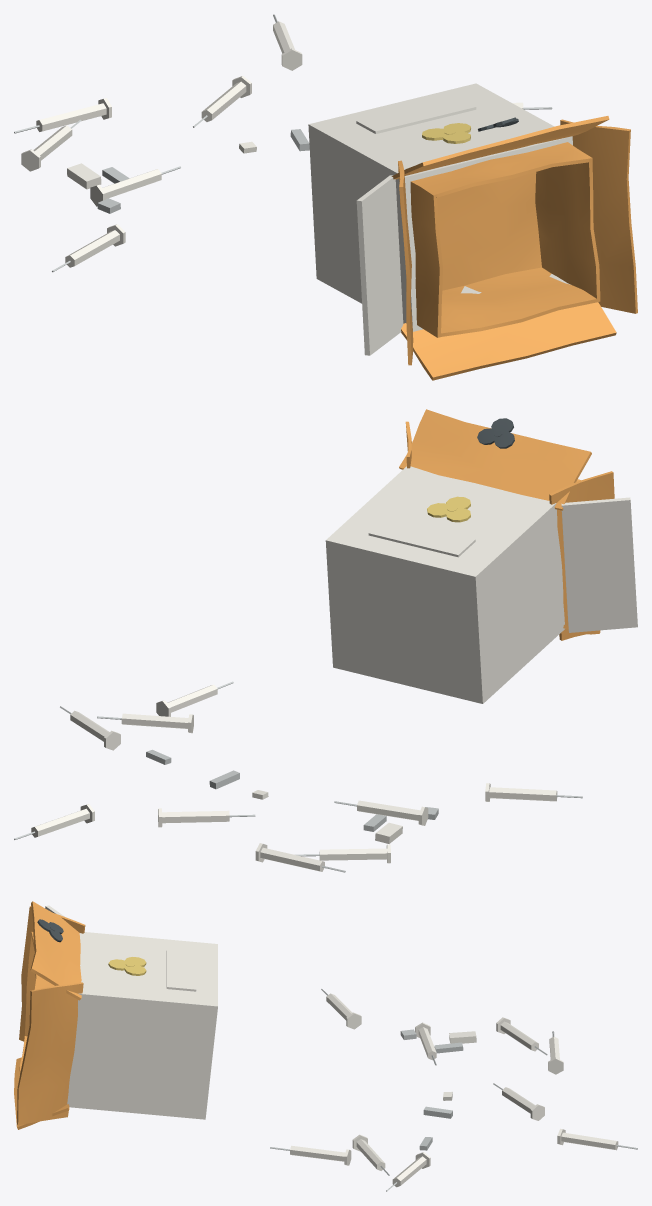
Rendered from sharps_bin_broken.fbx.
3 renders of one model, top to bottom at view 1: azimuth 30°, elevation 25°; view 2: azimuth 150°, elevation 25°; view 3: azimuth 270°, elevation 25°, orthographic. The views are drawn at different scales.
Visible parts, largest first — view 1: sharps_bin_broken, sharps_bin_broken_debris; view 2: sharps_bin_broken, sharps_bin_broken_debris; view 3: sharps_bin_broken, sharps_bin_broken_debris.
Part boxes in pixels (x1,y1,x2,y2): sharps_bin_broken: (308, 83, 637, 380); sharps_bin_broken_debris: (14, 14, 552, 272); sharps_bin_broken: (325, 409, 637, 703); sharps_bin_broken_debris: (14, 681, 582, 872); sharps_bin_broken: (14, 901, 217, 1129); sharps_bin_broken_debris: (270, 989, 637, 1191).
Bounding box in the file's own units: 64.71 × 26.51 × 84.51.
